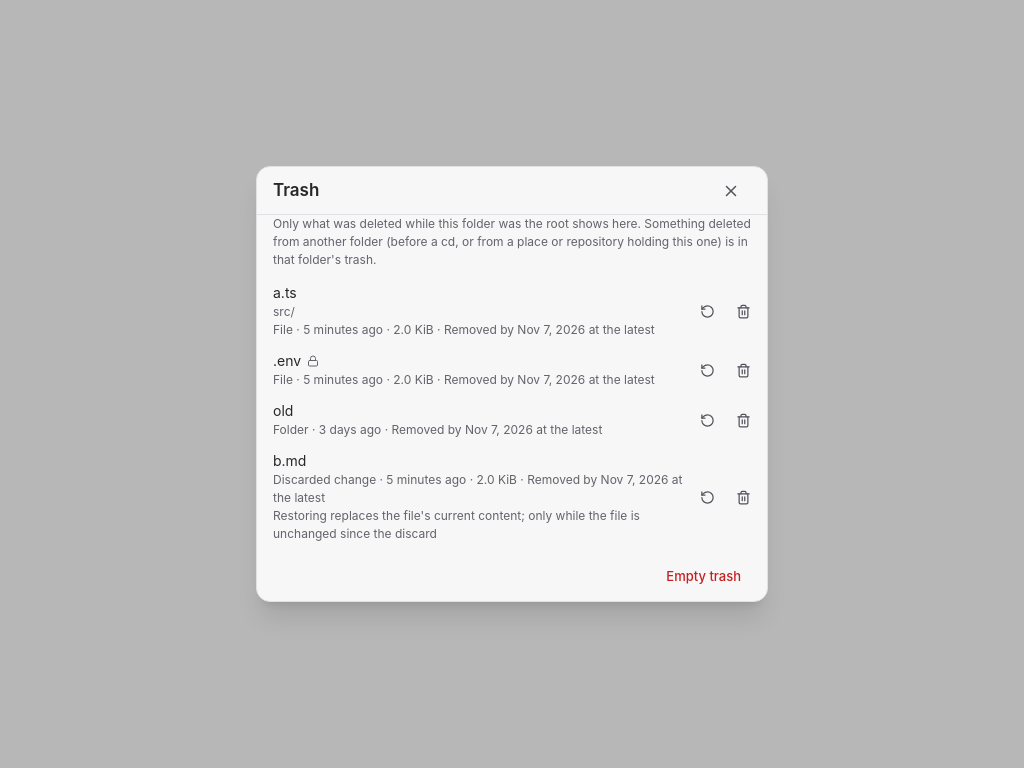
Test: TrashSheet › empties exactly the entries shown, then reads the list again
Step 1. Click the button "Empty trash" → (704, 577), box x1=656 y1=561 x2=751 y2=593
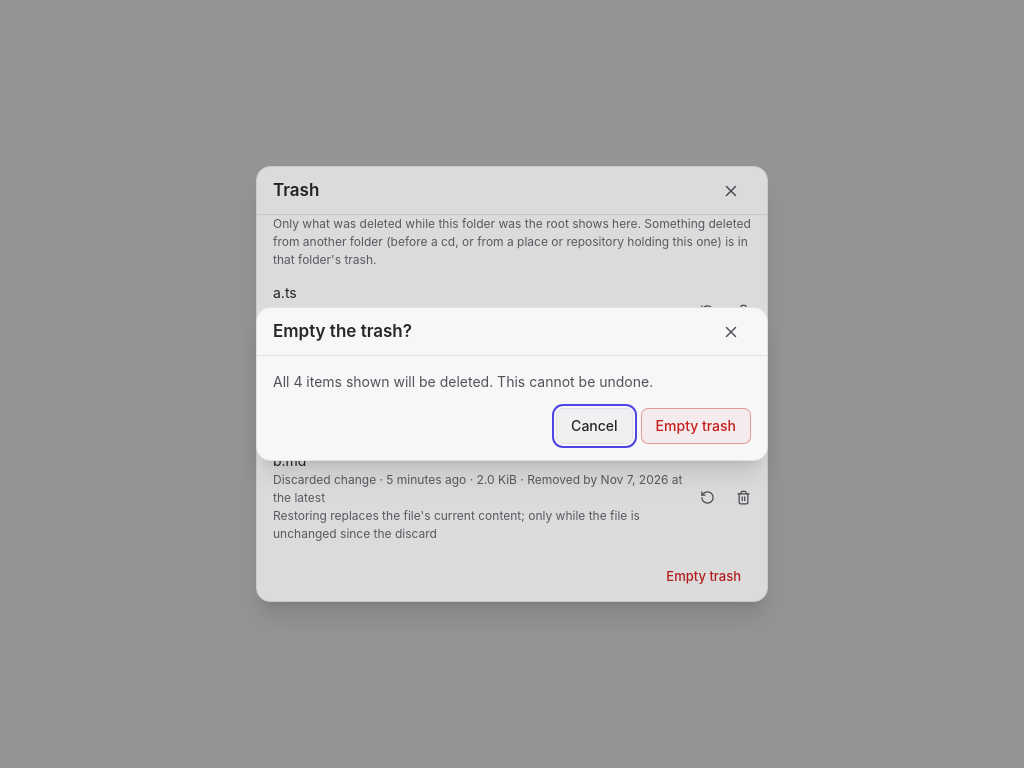
Now the text "All 4 items shown will be deleted. This cannot be undone." is shown, box x1=273 y1=373 x2=653 y2=390
Step 2. Click the button "Empty trash" → (696, 426), box x1=641 y1=408 x2=751 y2=444
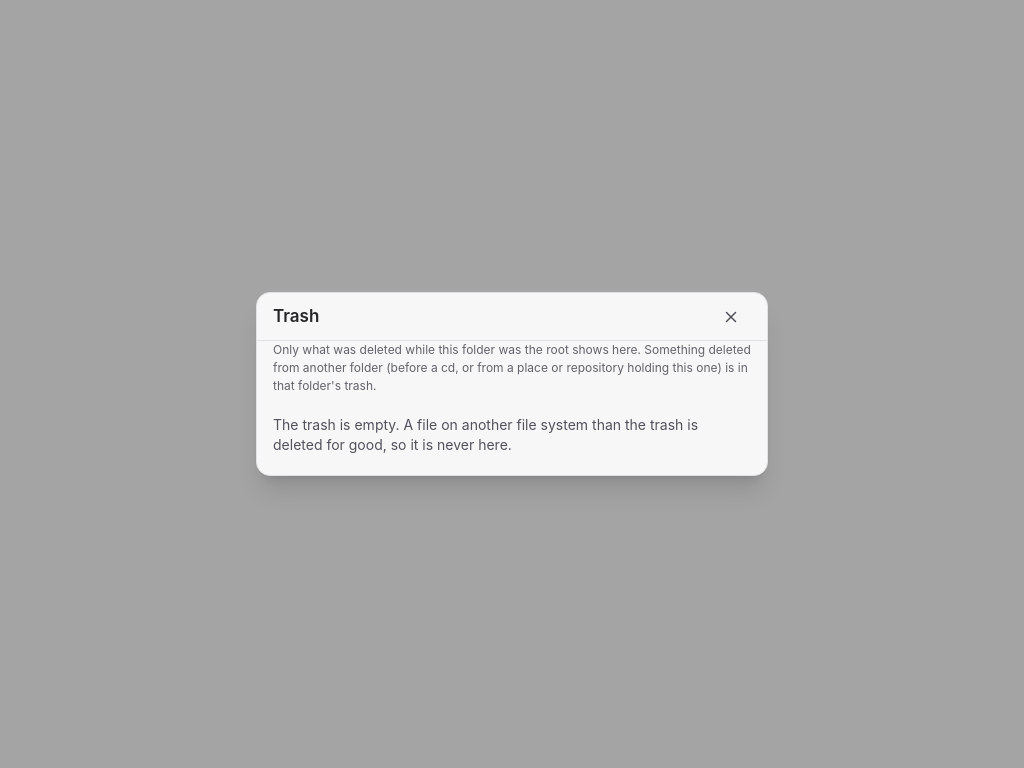
Now the text "The trash is empty" is shown, box x1=273 y1=416 x2=698 y2=453
